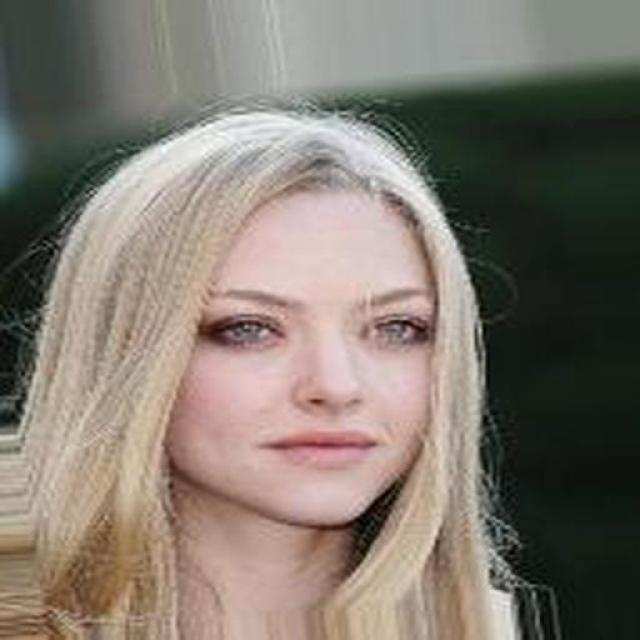bareface: (109, 136, 453, 528)
